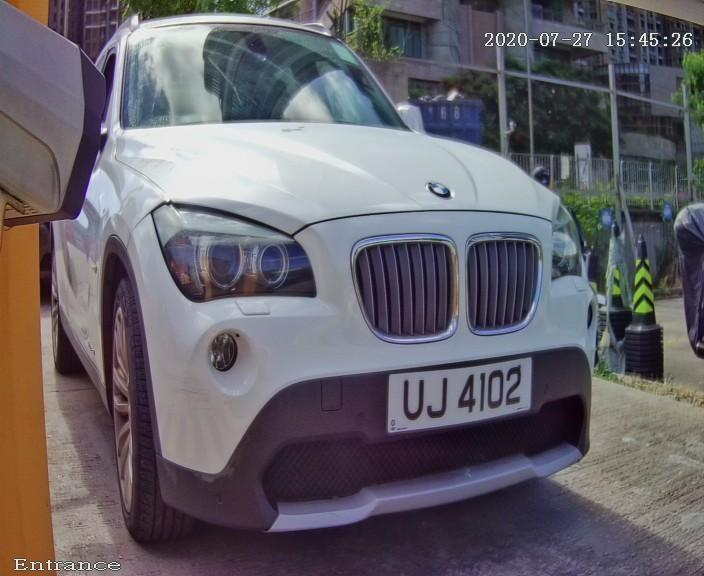privatecar: (60, 39, 629, 551)
